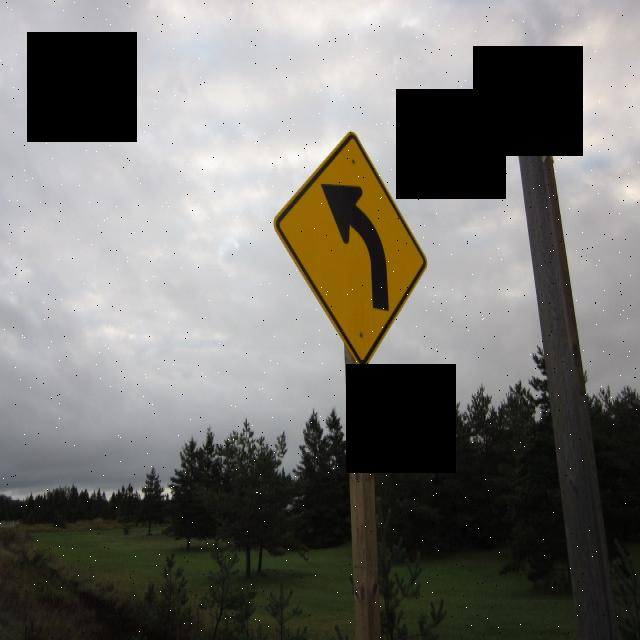warning: (271, 130, 430, 365)
